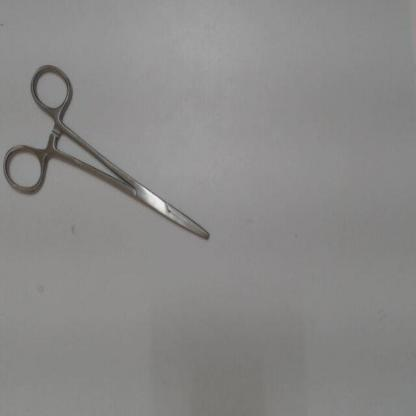Mayo Needle Holder: (3, 56, 222, 253)
